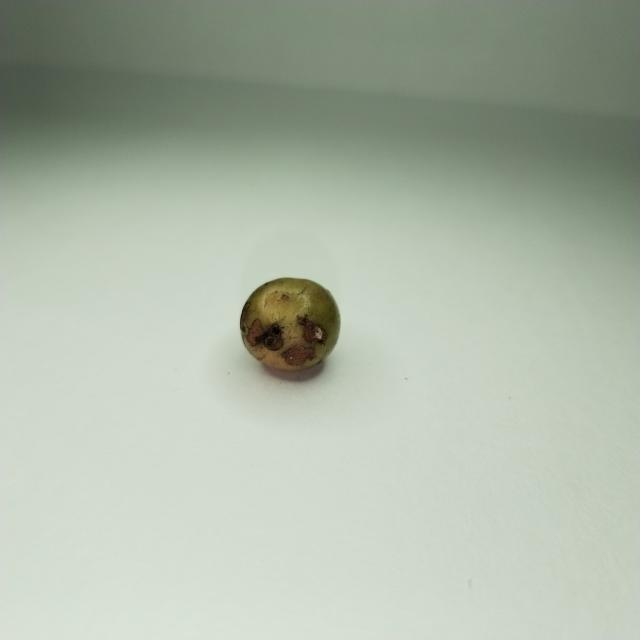Infectado: (240, 279, 340, 378)
